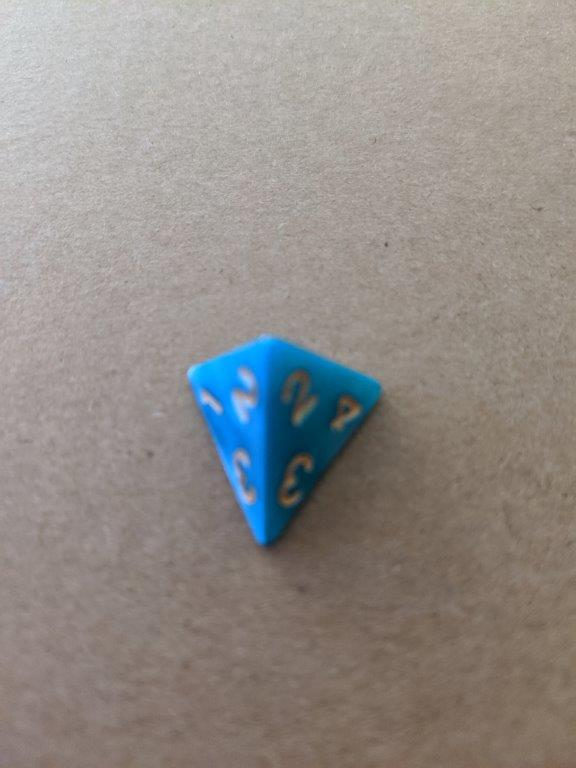d4-2: (180, 331, 388, 549)
